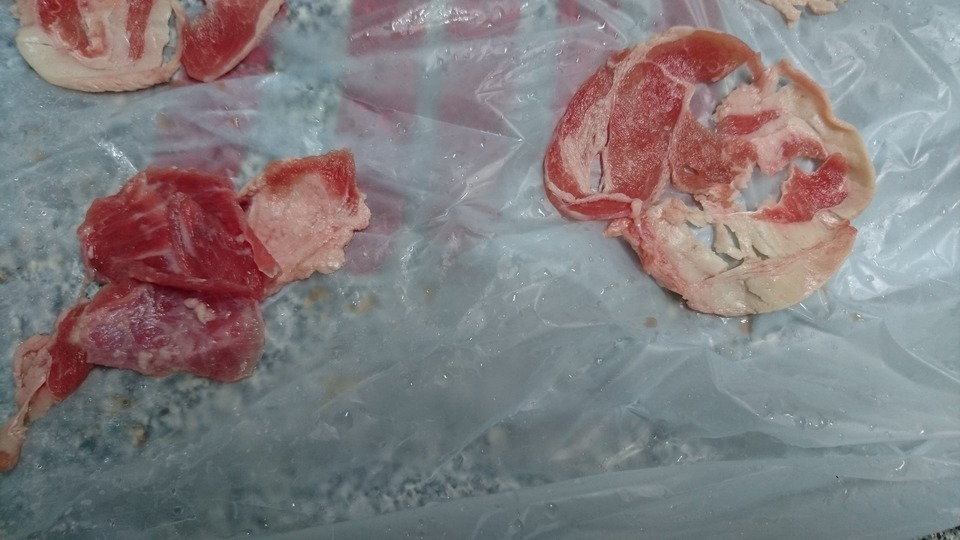restructured meat: (540, 25, 881, 324), (15, 153, 356, 452)
